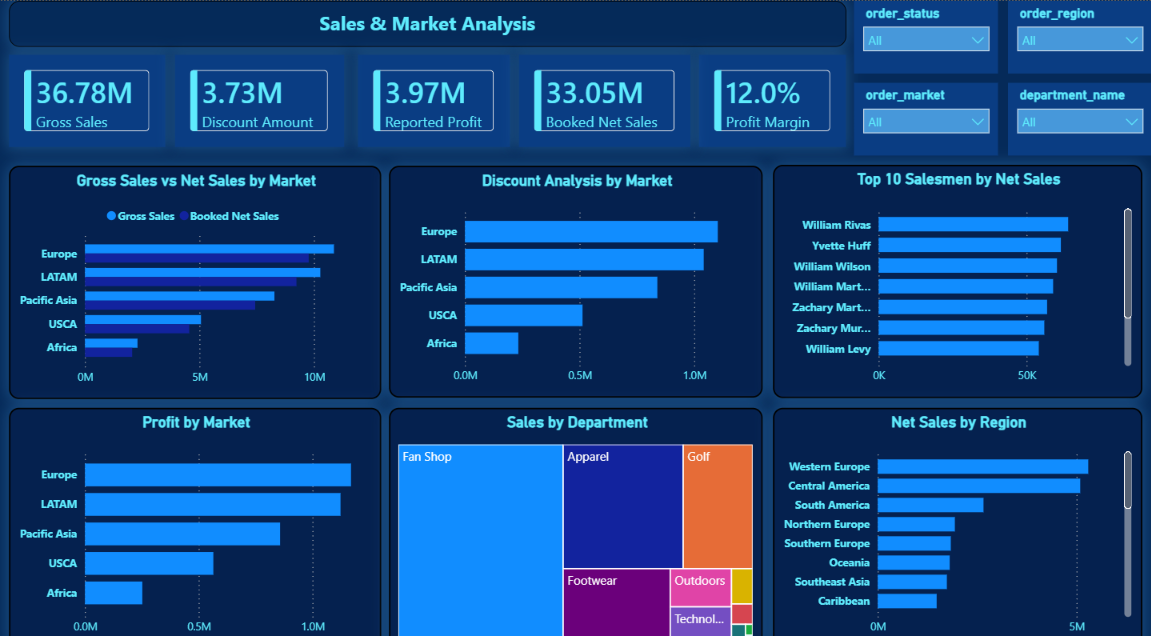

What the dashboard file says about the page in this screenshot:
{"tool":"powerbi","page":{"name":"Sales & Market Analysis","canvas":[1280,720],"ordinal":1},"visuals":[{"type":"textbox","box":[10,0,930,51.1],"z":0},{"type":"cardVisual","fields":{"Data":["FactOrders.Gross Sales"]},"box":[10,60,173.3,102.2],"z":1},{"type":"cardVisual","fields":{"Data":["FactOrders.Reported Profit"]},"box":[397.8,60,168.9,102.2],"z":2},{"type":"cardVisual","fields":{"Data":["FactOrders.Profit Margin"]},"box":[776.7,60,163.3,102.2],"z":3},{"type":"cardVisual","fields":{"Data":["FactOrders.Discount Amount"]},"box":[194.4,60,187.8,102.2],"z":4},{"type":"cardVisual","fields":{"Data":["FactOrders.Booked Net Sales"]},"box":[576.7,60,190,102.2],"z":5},{"type":"clusteredBarChart","title":"Gross Sales vs Net Sales by Market","fields":{"Y":["FactOrders.Gross Sales","FactOrders.Booked Net Sales"],"Category":["FactOrders.order_market"]},"box":[10,183.3,413.3,258.9],"z":6},{"type":"clusteredBarChart","title":"Profit by Market","fields":{"Y":["FactOrders.Reported Profit"],"Category":["FactOrders.order_market"]},"box":[10,452.2,413.3,267.8],"z":7},{"type":"clusteredBarChart","title":"Discount Analysis by Market","fields":{"Category":["FactOrders.order_market"],"Y":["FactOrders.Discount Amount"]},"box":[432.2,183.3,415.6,257.8],"z":8},{"type":"treemap","title":"Sales by Department","fields":{"Values":["FactOrders.Booked Net Sales"],"Group":["DimProducts.department_name"]},"box":[432.2,452.2,415.6,267.8],"z":9},{"type":"clusteredBarChart","title":"Top 10 Salesmen by Net Sales","fields":{"Category":["DimSalesman.salesman_full_name"],"Y":["FactOrders.Booked Net Sales"]},"box":[858.9,182.2,410,258.9],"z":10},{"type":"clusteredBarChart","title":"Net Sales by Region","fields":{"Category":["FactOrders.order_region"],"Y":["FactOrders.Booked Net Sales"]},"box":[858.9,452.2,410,267.8],"z":11},{"type":"slicer","fields":{"Values":["FactOrders.order_status"]},"box":[948.9,0,160,81.1],"z":12},{"type":"slicer","fields":{"Values":["FactOrders.order_region"]},"box":[1120,0,160,81.1],"z":13},{"type":"slicer","fields":{"Values":["DimProducts.department_name"]},"box":[1120,91.1,160,81.1],"z":14},{"type":"slicer","fields":{"Values":["FactOrders.order_market"]},"box":[948.9,91.1,160,81.1],"z":15}]}

Visuals, with their boxes in screenshot pixels (x1, y1, x2, y2), scaled from the page's 1280x720 canvas onto the 1151x636 screenshot:
textbox: locate(9, 0, 845, 45)
cardVisual - FactOrders.Gross Sales: locate(9, 53, 165, 143)
cardVisual - FactOrders.Reported Profit: locate(358, 53, 510, 143)
cardVisual - FactOrders.Profit Margin: locate(698, 53, 845, 143)
cardVisual - FactOrders.Discount Amount: locate(175, 53, 344, 143)
cardVisual - FactOrders.Booked Net Sales: locate(519, 53, 689, 143)
"Gross Sales vs Net Sales by Market" clusteredBarChart: locate(9, 162, 381, 391)
"Profit by Market" clusteredBarChart: locate(9, 399, 381, 635)
"Discount Analysis by Market" clusteredBarChart: locate(389, 162, 762, 390)
"Sales by Department" treemap: locate(389, 399, 762, 635)
"Top 10 Salesmen by Net Sales" clusteredBarChart: locate(772, 161, 1141, 390)
"Net Sales by Region" clusteredBarChart: locate(772, 399, 1141, 635)
slicer - FactOrders.order_status: locate(853, 0, 997, 72)
slicer - FactOrders.order_region: locate(1007, 0, 1150, 72)
slicer - DimProducts.department_name: locate(1007, 80, 1150, 152)
slicer - FactOrders.order_market: locate(853, 80, 997, 152)
